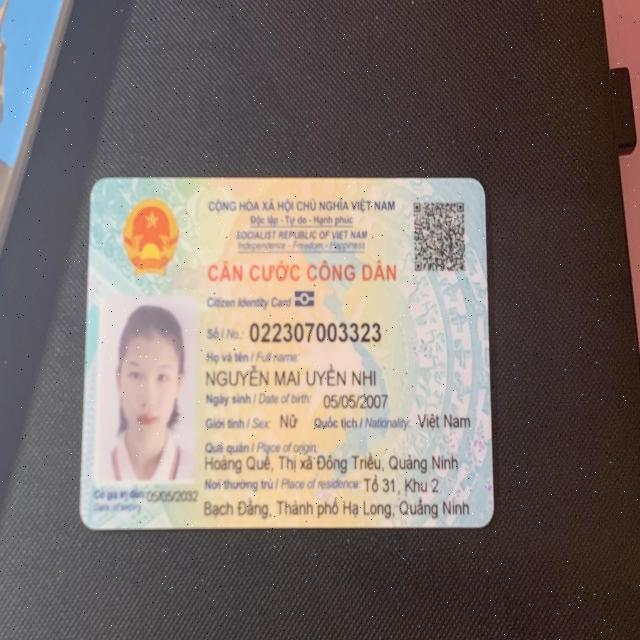current_place: (196, 490, 473, 522), (356, 471, 447, 495)
dob: (322, 392, 388, 414)
expire_date: (144, 489, 204, 507)
gender: (272, 408, 301, 434)
id: (244, 317, 382, 347)
name: (204, 366, 381, 390)
nationality: (411, 408, 473, 439)
origin_place: (197, 450, 464, 476)
